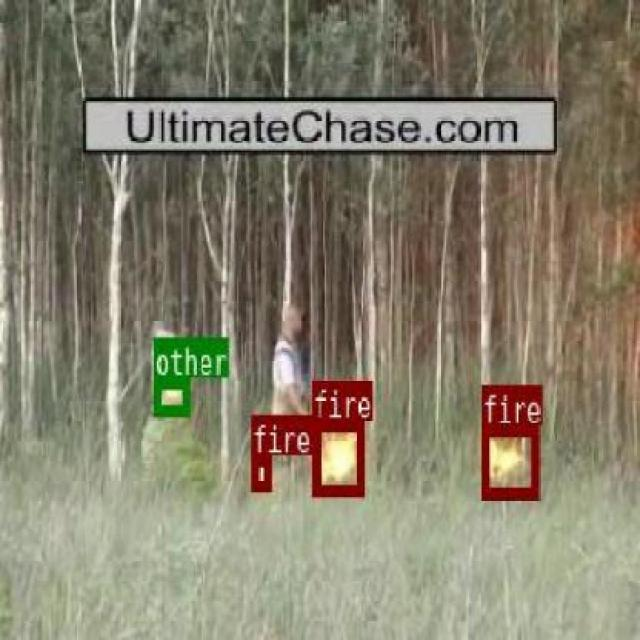Fire: (480, 423, 538, 497), (310, 419, 362, 493), (251, 454, 271, 489)
